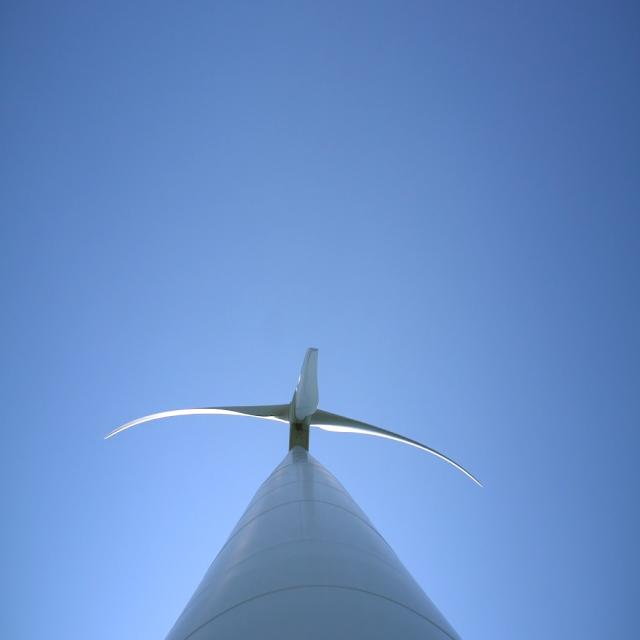blade 1: (34, 382, 279, 438)
blade 2: (287, 339, 475, 398), (375, 348, 399, 350)
blade 3: (349, 418, 444, 509), (368, 348, 376, 349)
